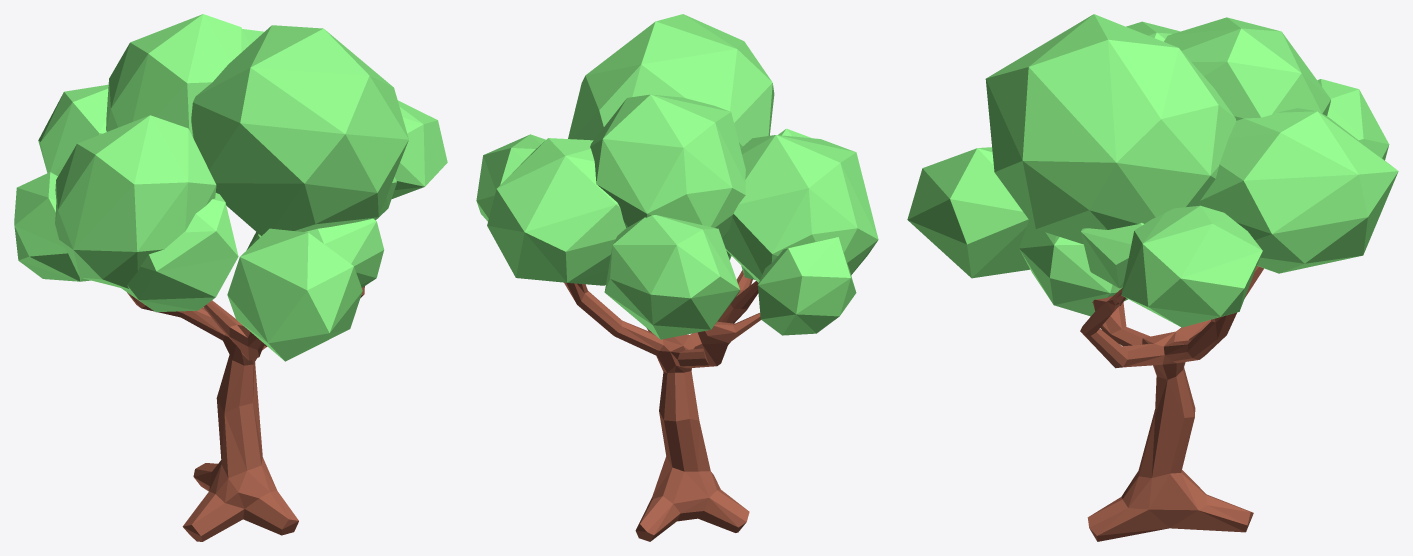
Rendered from Tree_3.fbx.
The picture shows the model from 3 angles, left to right: view 1: azimuth 30°, elevation 25°; view 2: azimuth 150°, elevation 25°; view 3: azimuth 270°, elevation 25°; orthographic projection. The views are drawn at different scales.
Parts seen in each view (by area): view 1: Icosphere.031, Icosphere.032, Plane.003, Icosphere.030, Icosphere.033, Icosphere.026, Icosphere.027, Icosphere.028, Icosphere.023, Icosphere.025; view 2: Icosphere.033, Icosphere.032, Icosphere.031, Icosphere.024, Plane.003, Icosphere.028, Icosphere.027, Icosphere.023; view 3: Icosphere.031, Icosphere.024, Plane.003, Icosphere.023, Icosphere.030, Icosphere.033, Icosphere.025, Icosphere.028, Icosphere.029.
Boxes of the visible parts, left/top/right/bottom form: Icosphere.031: left=191, top=25, right=408, bottom=235; Icosphere.032: left=55, top=115, right=216, bottom=289; Plane.003: left=127, top=286, right=364, bottom=541; Icosphere.030: left=227, top=228, right=362, bottom=361; Icosphere.033: left=106, top=14, right=249, bottom=136; Icosphere.026: left=121, top=193, right=238, bottom=312; Icosphere.027: left=14, top=172, right=90, bottom=281; Icosphere.028: left=38, top=84, right=108, bottom=175; Icosphere.023: left=391, top=100, right=447, bottom=198; Icosphere.025: left=246, top=218, right=384, bottom=287; Icosphere.033: left=590, top=94, right=745, bottom=238; Icosphere.032: left=722, top=135, right=878, bottom=282; Icosphere.031: left=568, top=14, right=774, bottom=148; Icosphere.024: left=487, top=138, right=625, bottom=285; Plane.003: left=564, top=270, right=760, bottom=541; Icosphere.028: left=604, top=215, right=739, bottom=339; Icosphere.027: left=757, top=237, right=856, bottom=335; Icosphere.023: left=476, top=134, right=545, bottom=221; Icosphere.031: left=985, top=14, right=1236, bottom=244; Icosphere.024: left=1198, top=108, right=1398, bottom=273; Plane.003: left=1080, top=266, right=1263, bottom=541; Icosphere.023: left=1121, top=205, right=1262, bottom=327; Icosphere.030: left=907, top=147, right=1029, bottom=278; Icosphere.033: left=1164, top=17, right=1330, bottom=120; Icosphere.025: left=1019, top=220, right=1127, bottom=316; Icosphere.028: left=1317, top=79, right=1389, bottom=160; Icosphere.029: left=1081, top=222, right=1143, bottom=288.
Bounding box in the file's own units: 1452 × 1709 × 1435.
